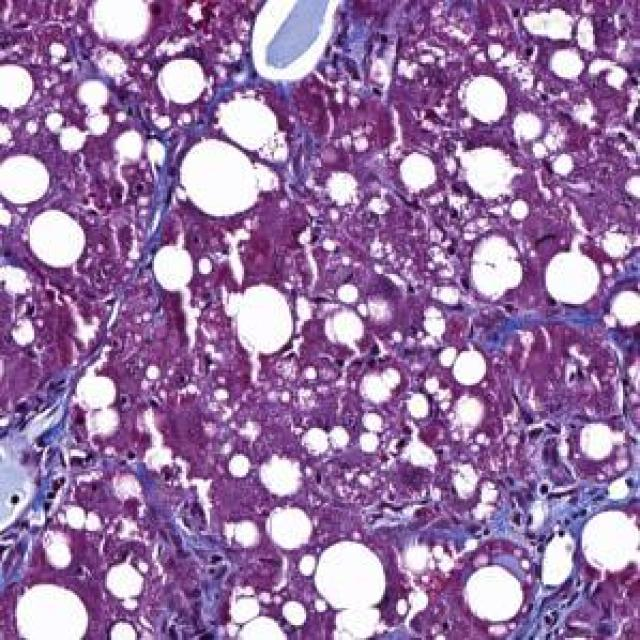fibrosis: (0, 400, 94, 578), (496, 452, 632, 542)
